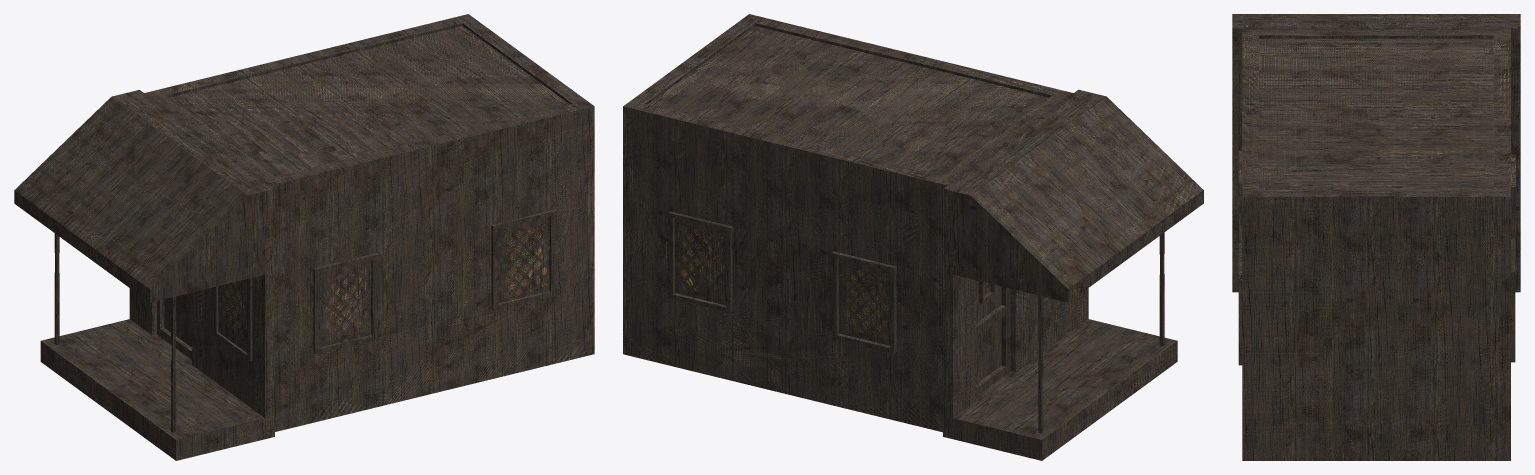
The model's file is House 3 N Ex.fbx.
The picture shows the model from 3 angles, left to right: view 1: azimuth 30°, elevation 25°; view 2: azimuth 150°, elevation 25°; view 3: azimuth 270°, elevation 25°; orthographic projection. The views are drawn at different scales.
Visible parts, largest first — view 1: Model; view 2: Model; view 3: Model.
Part boxes in pixels (x1,y1,x2,y2): Model: (14, 14, 594, 460); Model: (623, 14, 1203, 460); Model: (1232, 14, 1520, 460).
Bounding box in the file's own units: 63.92 × 33.67 × 33.38.
